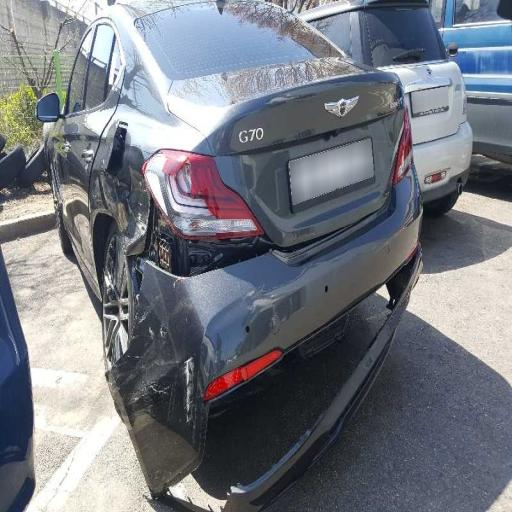broken: (72, 104, 268, 461)
